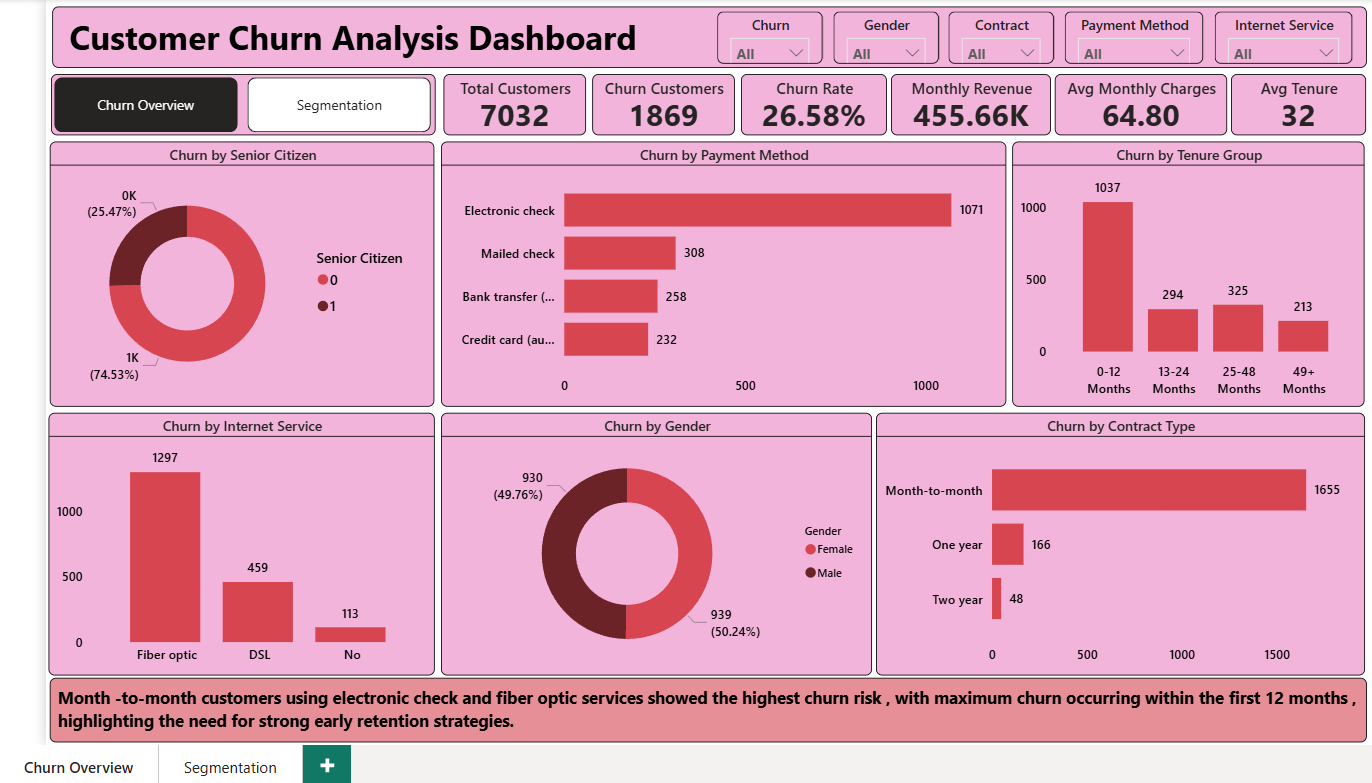

What the dashboard file says about the page in this screenshot:
{"tool":"powerbi","page":{"name":"0verview","canvas":[1920,1080],"ordinal":0},"visuals":[{"type":"textbox","box":[25.3,27.1,1869.7,119.3],"z":0},{"type":"cardVisual","fields":{"Data":["IBM.Total Customers"]},"box":[568.5,170,206.1,88.6],"z":1000},{"type":"cardVisual","fields":{"Data":["IBM.Churn Customer"]},"box":[790.9,170,206.1,88.6],"z":2000},{"type":"cardVisual","fields":{"Data":["IBM.Churn Rate"]},"box":[1009.7,171.8,206.1,88.6],"z":3000},{"type":"cardVisual","fields":{"Data":["IBM.Monthly Revenue"]},"box":[1232.1,170,206.1,88.6],"z":4000},{"type":"cardVisual","fields":{"Data":["IBM.Avg Monthly Charges"]},"box":[1458.2,170,206.1,88.6],"z":5000},{"type":"cardVisual","fields":{"Data":["IBM.Avg Tenure"]},"box":[1688.9,170,206.1,88.6],"z":6000},{"type":"donutChart","title":"Churn by Senior Citizen","fields":{"Category":["IBM.SeniorCitizen"],"Y":["IBM.Churn Customer"]},"box":[25.3,280.3,585.9,374.3],"z":7000},{"type":"barChart","title":"Churn by Payment Method","fields":{"Category":["IBM.PaymentMethod"],"Y":["IBM.Churn Customer"]},"box":[643.7,280.3,638.3,374.3],"z":8000},{"type":"columnChart","title":"Churn by Payment Method","fields":{"Category":["IBM.InternetService"],"Y":["IBM.Churn Customer"]},"box":[25.3,678.1,585.9,374.3],"z":9000},{"type":"donutChart","title":"Churn by Gender","fields":{"Category":["IBM.gender"],"Y":["IBM.Churn Customer"]},"box":[645.5,678.1,638.3,374.3],"z":10000},{"type":"columnChart","title":"Churn by Tenure Group","fields":{"Category":["IBM.Tenure Group"],"Y":["IBM.Churn Customer"]},"box":[1309.2,280.3,585.9,374.3],"z":11000},{"type":"barChart","title":"Churn by Contract Type","fields":{"Category":["IBM.Contract"],"Y":["IBM.Churn Customer"]},"box":[1309.2,679.9,585.9,374.3],"z":12000},{"type":"slicer","title":"Churn","fields":{"Values":["IBM.Churn"]},"box":[1036.1,45.2,150.1,83.2],"z":13000},{"type":"slicer","title":"Gender","fields":{"Values":["IBM.gender"]},"box":[1215.1,45.2,150.1,83.2],"z":14000},{"type":"slicer","title":"Contract","fields":{"Values":["IBM.Contract"]},"box":[1388.7,45.2,150.1,83.2],"z":15000},{"type":"slicer","title":"Payment Method","fields":{"Values":["IBM.PaymentMethod"]},"box":[1560.5,45.2,150.1,83.2],"z":16000},{"type":"slicer","title":"Internet Service","fields":{"Values":["IBM.InternetService"]},"box":[1730.5,45.2,150.1,83.2],"z":17000},{"type":"pageNavigator","title":"Page Navigation","box":[25.3,171.8,511.7,86.8],"z":18000}]}

Visuals, with their boxes on the page's 1920x1080 design canvas (x1, y1, x2, y2). These are canvas units, not pixel positions in the 1372x783 screenshot, which may show the page scaled, cropped or inside an application window:
textbox: x1=25, y1=27, x2=1895, y2=146
cardVisual - IBM.Total Customers: x1=568, y1=170, x2=775, y2=259
cardVisual - IBM.Churn Customer: x1=791, y1=170, x2=997, y2=259
cardVisual - IBM.Churn Rate: x1=1010, y1=172, x2=1216, y2=260
cardVisual - IBM.Monthly Revenue: x1=1232, y1=170, x2=1438, y2=259
cardVisual - IBM.Avg Monthly Charges: x1=1458, y1=170, x2=1664, y2=259
cardVisual - IBM.Avg Tenure: x1=1689, y1=170, x2=1895, y2=259
"Churn by Senior Citizen" donutChart: x1=25, y1=280, x2=611, y2=655
"Churn by Payment Method" barChart: x1=644, y1=280, x2=1282, y2=655
"Churn by Payment Method" columnChart: x1=25, y1=678, x2=611, y2=1052
"Churn by Gender" donutChart: x1=646, y1=678, x2=1284, y2=1052
"Churn by Tenure Group" columnChart: x1=1309, y1=280, x2=1895, y2=655
"Churn by Contract Type" barChart: x1=1309, y1=680, x2=1895, y2=1054
"Churn" slicer: x1=1036, y1=45, x2=1186, y2=128
"Gender" slicer: x1=1215, y1=45, x2=1365, y2=128
"Contract" slicer: x1=1389, y1=45, x2=1539, y2=128
"Payment Method" slicer: x1=1560, y1=45, x2=1711, y2=128
"Internet Service" slicer: x1=1730, y1=45, x2=1881, y2=128
"Page Navigation" pageNavigator: x1=25, y1=172, x2=537, y2=259
